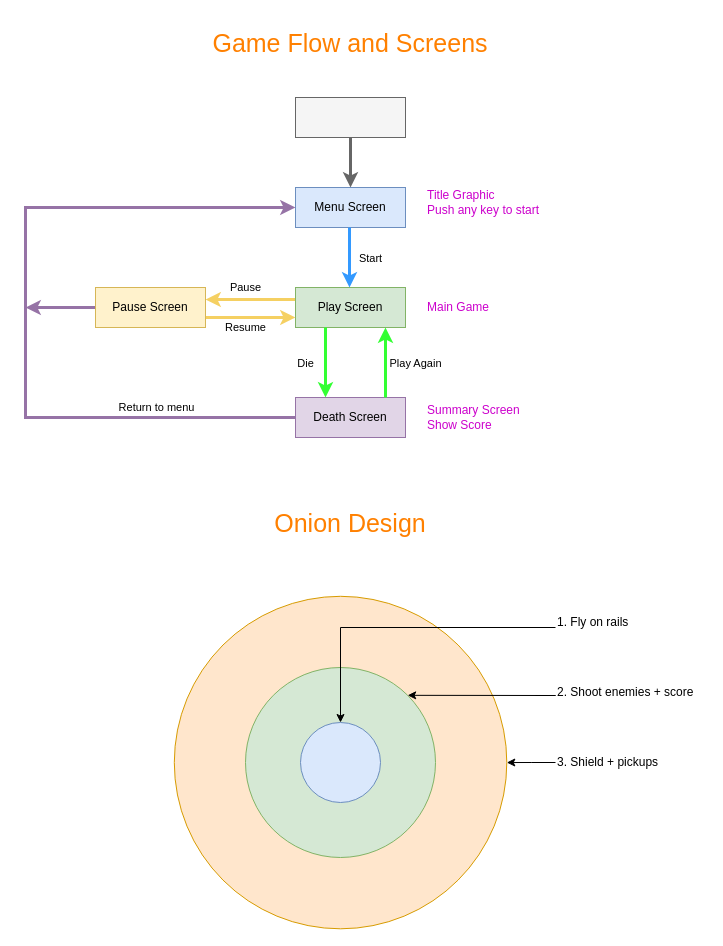
This 723x946 diagram has some shape labels left out. The shapes that lost their labels are listed below. From the top down, each one's centre as x and y in pixels, then its label:
At point (350, 117): "Spash Screen".
At point (340, 762): "Core Feature".
